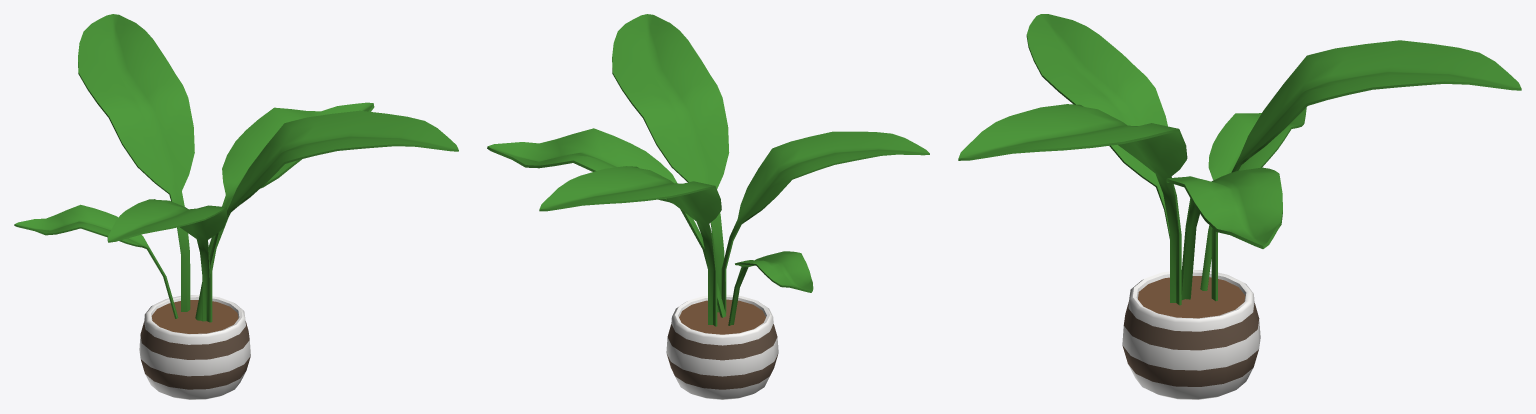
Rendered from Plant_41.glb.
3 renders of one model, left to right at view 1: azimuth 30°, elevation 25°; view 2: azimuth 150°, elevation 25°; view 3: azimuth 270°, elevation 25°, orthographic. The views are drawn at different scales.
Visible parts, largest first — view 1: Plant_41; view 2: Plant_41; view 3: Plant_41.
Boxes of the visible parts, left/top/right/bottom form: Plant_41: left=14, top=14, right=458, bottom=399; Plant_41: left=487, top=14, right=929, bottom=399; Plant_41: left=958, top=14, right=1521, bottom=399.
Size of the model in its own units: 1.11 by 0.7973 by 1.23.
Materials: 1 (1 with a texture image).
